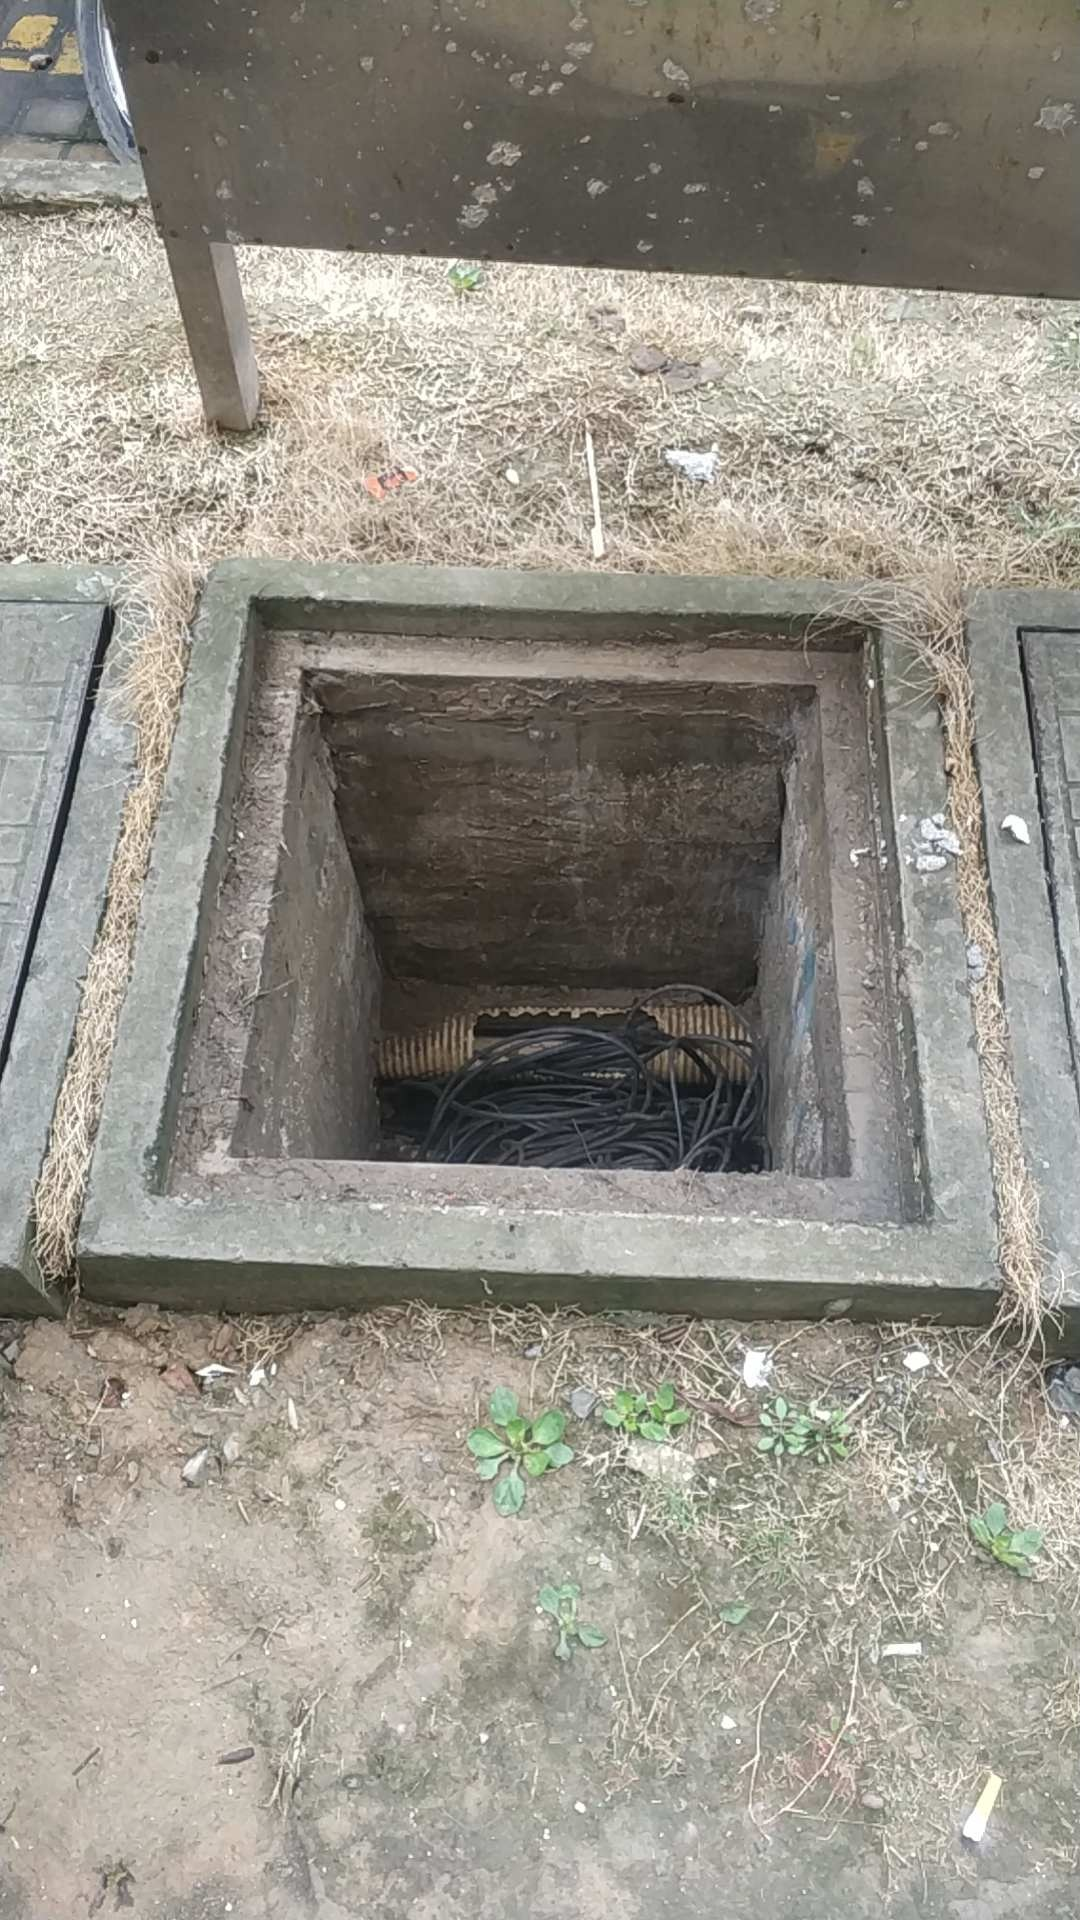lose: (79, 556, 1004, 1338)
